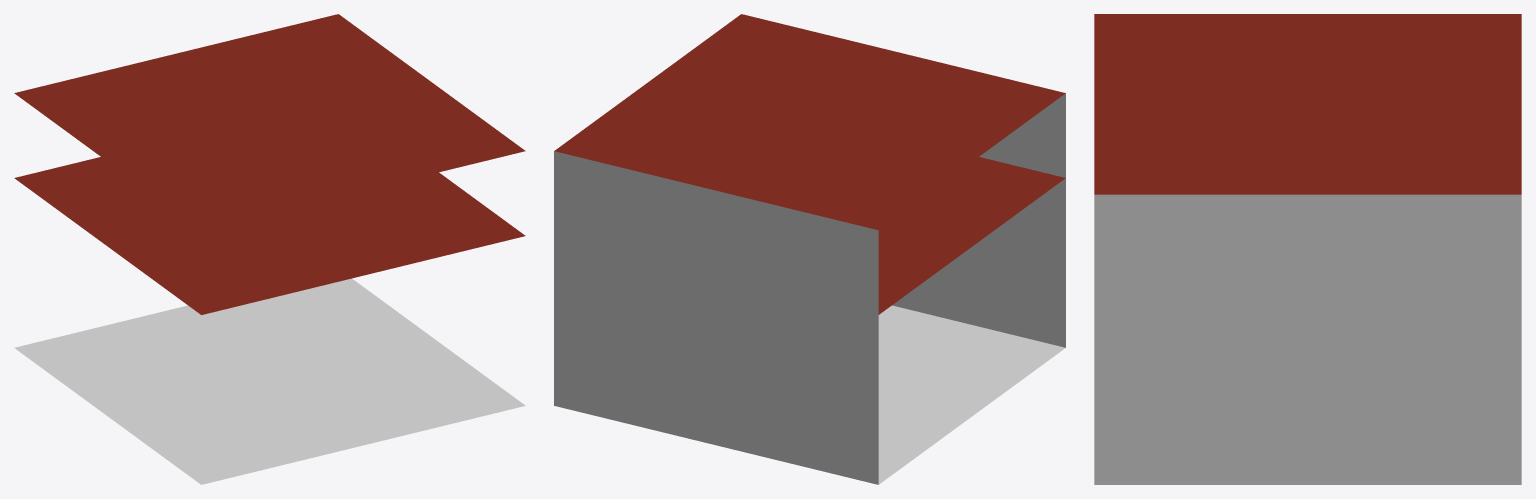
Rendered from twoSided.glb.
3 views of the same model, side by side, from view 1: azimuth 30°, elevation 25°; view 2: azimuth 150°, elevation 25°; view 3: azimuth 270°, elevation 25° (orthographic). The views are drawn at different scales.
Parts seen in each view (by area): view 1: lid (×2), twoSided; view 2: twoSided, lid (×2); view 3: twoSided, lid.
Part boxes in pixels (x1,y1,x2,y2): lid (×2): (14, 14, 525, 314); twoSided: (14, 278, 525, 484); twoSided: (554, 93, 1065, 484); lid (×2): (554, 14, 1065, 314); twoSided: (1094, 194, 1521, 484); lid: (1094, 14, 1521, 194).
Size of the model in its own units: 2 by 1.5 by 2.
